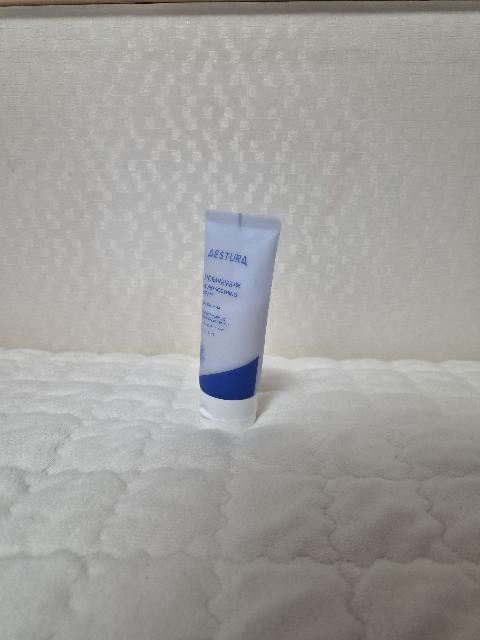handcream: (199, 209, 281, 433)
